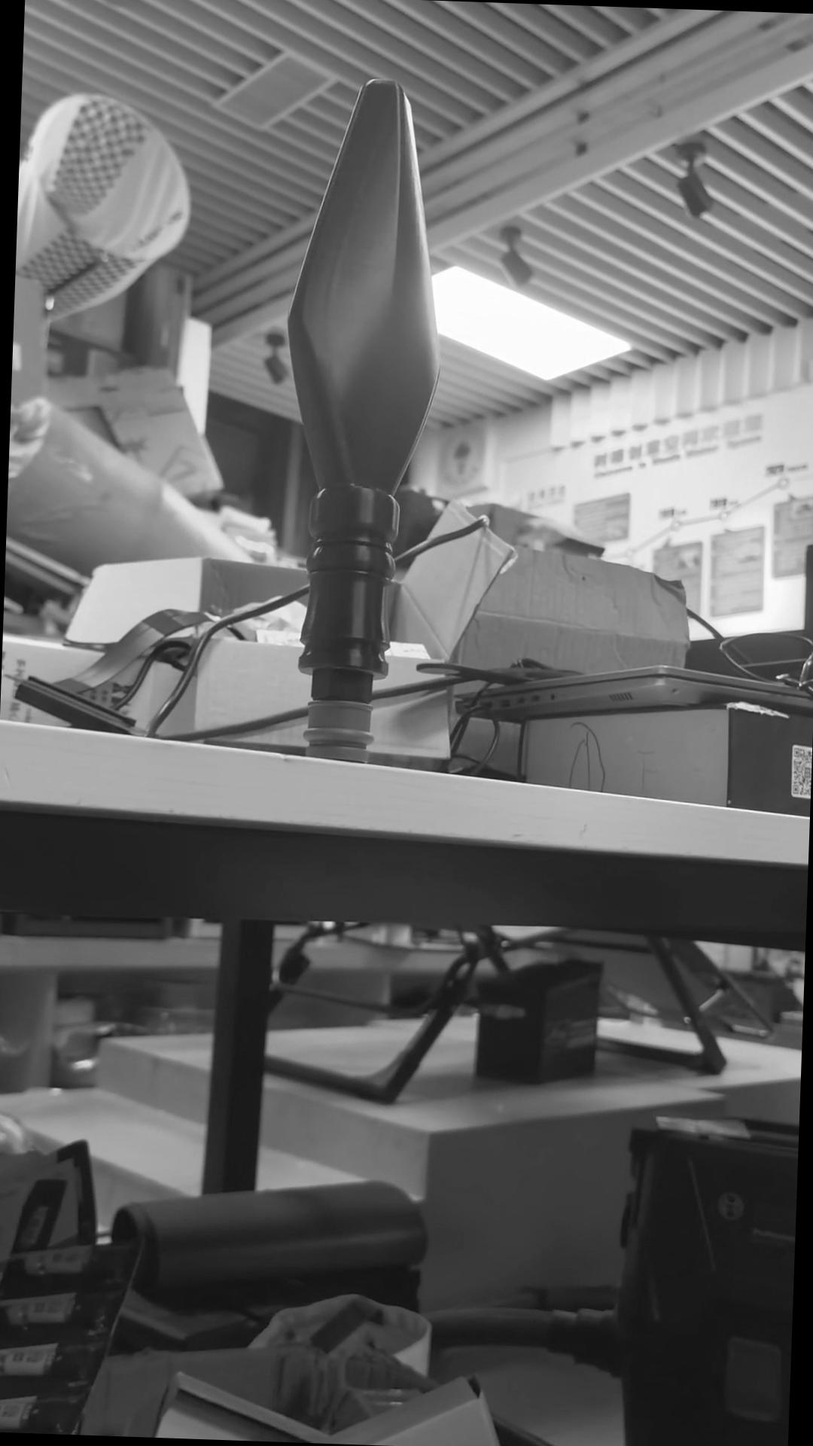base: (302, 688, 378, 773)
